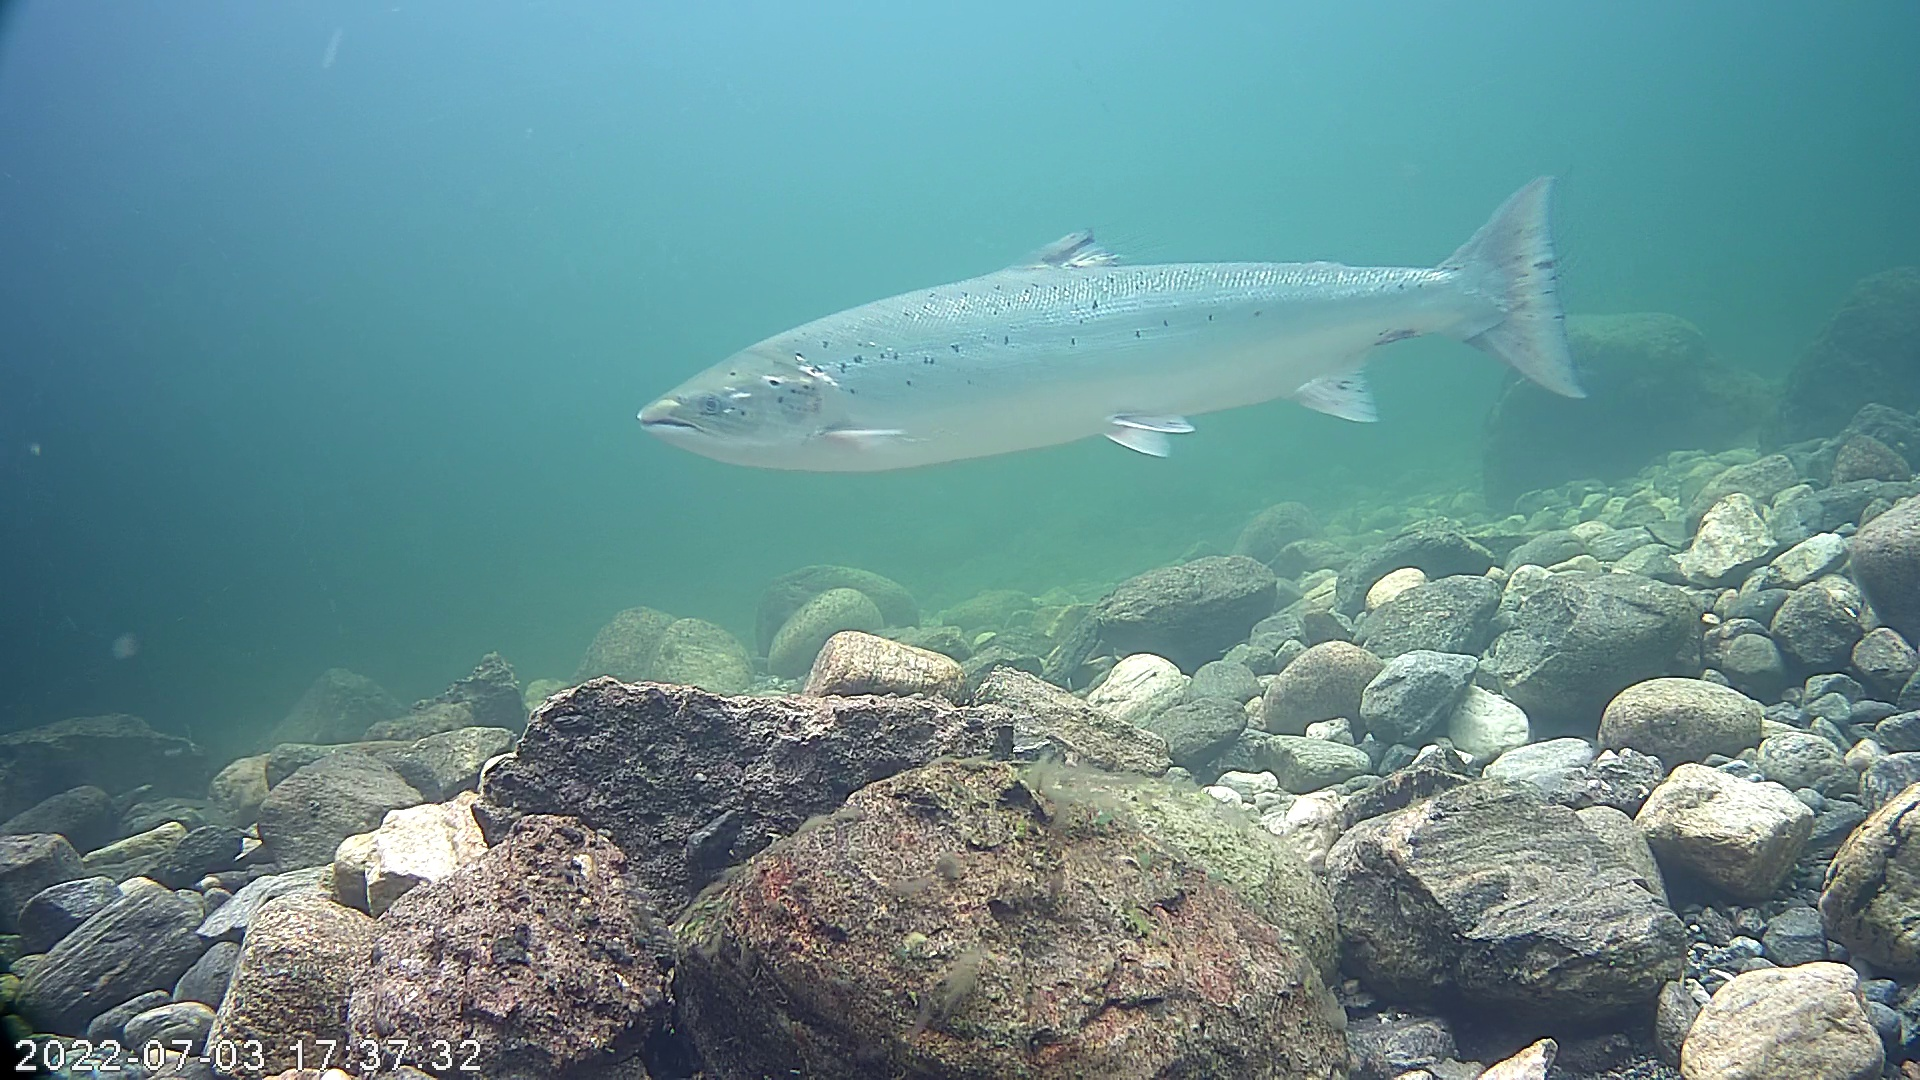salmon: (632, 171, 1594, 477)
